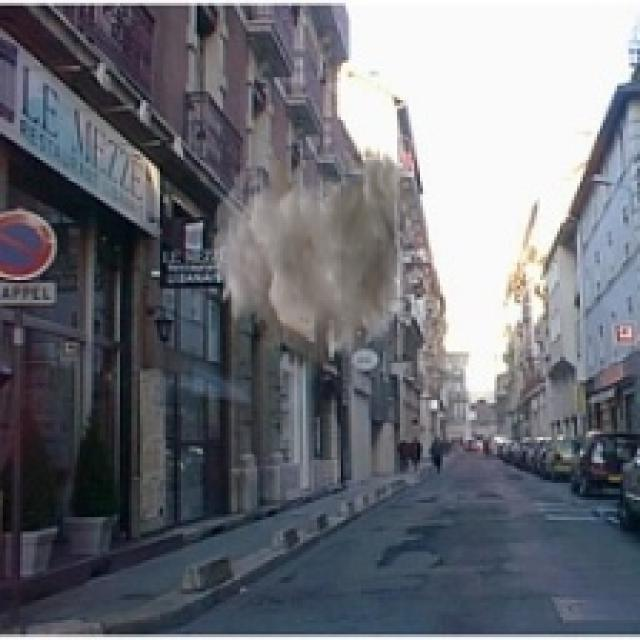Smoke: (212, 146, 414, 386)
